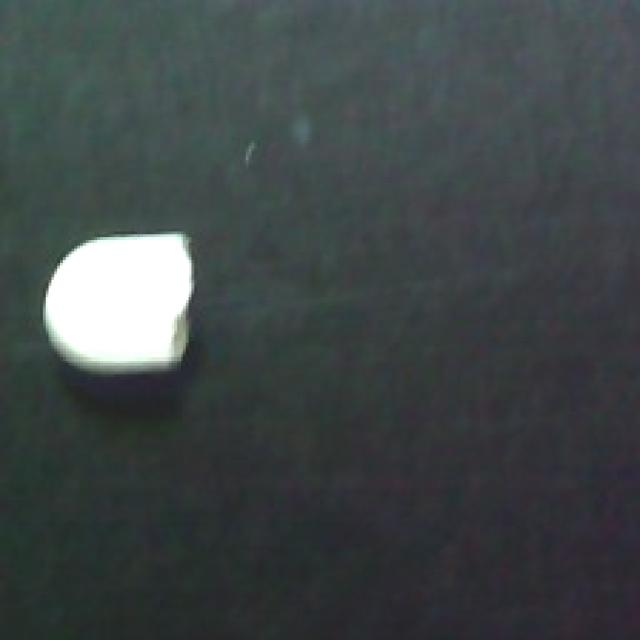defected: (37, 223, 197, 377)
